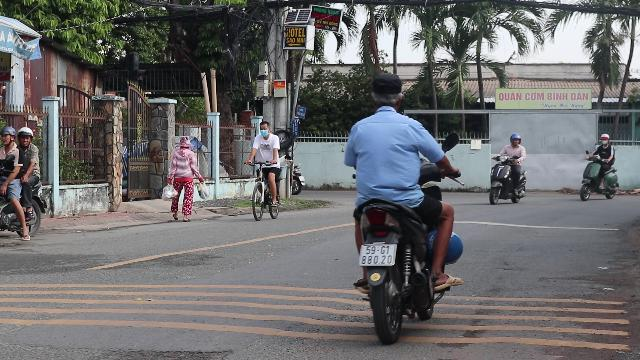helmet: (16, 126, 34, 146), (0, 126, 16, 146)
licenseplate: (360, 243, 394, 265)
motorcyclist: (338, 70, 466, 340), (0, 125, 48, 249)
nohelmet: (368, 72, 404, 112)
